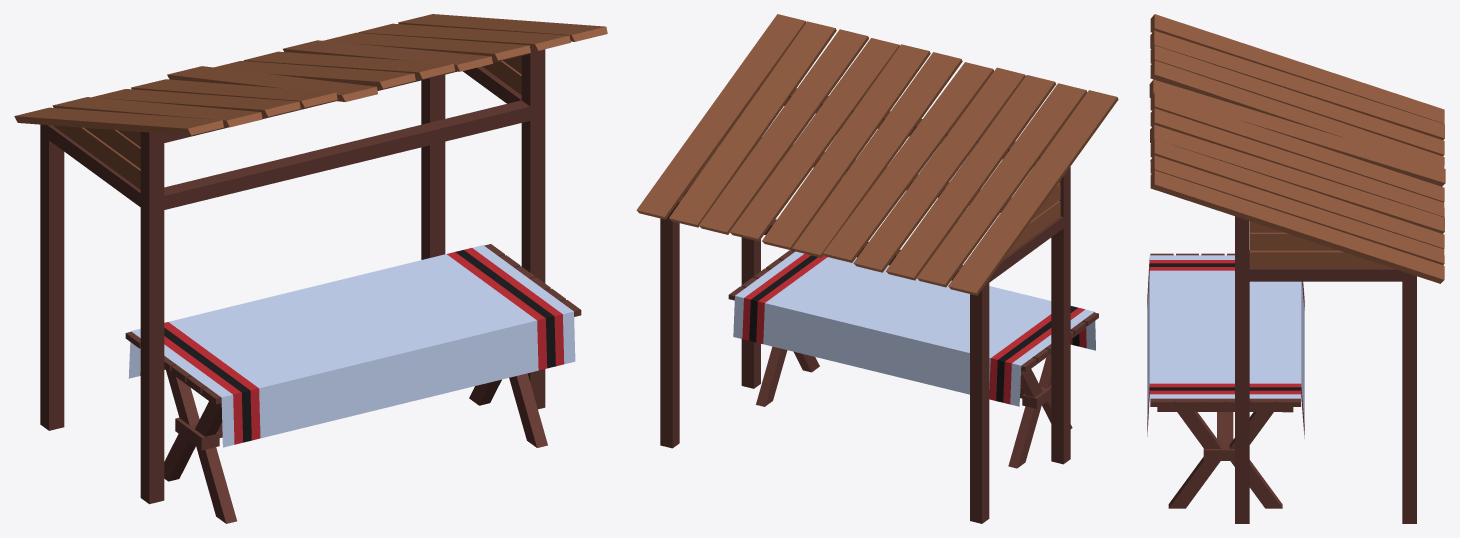
Rendered from market_with_roof.fbx.
The picture shows the model from 3 angles, left to right: view 1: azimuth 30°, elevation 25°; view 2: azimuth 150°, elevation 25°; view 3: azimuth 270°, elevation 25°; orthographic projection. The views are drawn at different scales.
Parts seen in each view (by area): view 1: market_roof, table; view 2: market_roof, table; view 3: market_roof, table.
Boxes of the visible parts, x1,y1,x2,y2 form: market_roof: [14, 14, 607, 504]; table: [125, 244, 581, 523]; market_roof: [636, 14, 1118, 523]; table: [728, 249, 1098, 468]; market_roof: [1149, 14, 1445, 523]; table: [1147, 253, 1304, 508].
Size of the model in its own units: 158 by 149 by 117.
